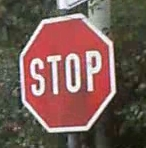stop: (17, 13, 114, 132)
